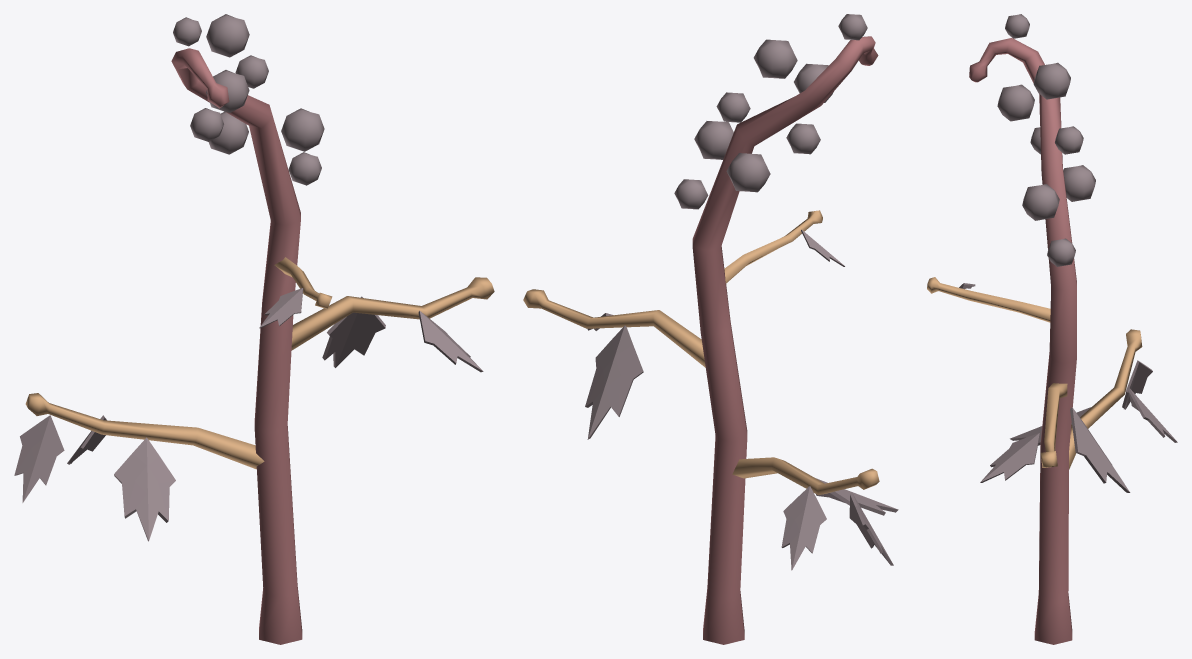
File: asteroidPlant_stage4.fbx
The picture shows the model from 3 angles, left to right: view 1: azimuth 30°, elevation 25°; view 2: azimuth 150°, elevation 25°; view 3: azimuth 270°, elevation 25°; orthographic projection. The views are drawn at different scales.
Visible parts, largest first — view 1: asteroidPlant_stem_rotten, asteroidPlant_branch2_rotten, asteroidPlant_branch1_rotten, asteroidPlant_leaf02_rotten, asteroidPlant_leaf04_rotten, asteroidPlant_leaf06_rotten, asteroidPlant_fruit3_rotten, asteroidPlant_fruit10_rotten, asteroidPlant_leaf05_rotten, asteroidPlant_fruit6_rotten, asteroidPlant_fruit4_rotten, asteroidPlant_leaf01_rotten (+4 smaller); view 2: asteroidPlant_stem_rotten, asteroidPlant_leaf06_rotten, asteroidPlant_branch1_rotten, asteroidPlant_branch2_rotten, asteroidPlant_leaf03_rotten, asteroidPlant_fruit3_rotten, asteroidPlant_fruit6_rotten, asteroidPlant_branch3_rotten, asteroidPlant_fruit10_rotten, asteroidPlant_fruit5_rotten, asteroidPlant_leaf04_rotten, asteroidPlant_fruit9_rotten (+4 smaller); view 3: asteroidPlant_stem_rotten, asteroidPlant_branch2_rotten, asteroidPlant_branch3_rotten, asteroidPlant_leaf06_rotten, asteroidPlant_leaf05_rotten, asteroidPlant_branch1_rotten, asteroidPlant_fruit3_rotten, asteroidPlant_fruit10_rotten, asteroidPlant_fruit4_rotten, asteroidPlant_fruit6_rotten, asteroidPlant_fruit11_rotten, asteroidPlant_fruit9_rotten (+3 smaller).
Boxes of the visible parts, x1,y1,x2,y2 form: asteroidPlant_stem_rotten: [171, 48, 302, 644]; asteroidPlant_branch2_rotten: [25, 393, 264, 469]; asteroidPlant_branch1_rotten: [291, 277, 494, 350]; asteroidPlant_leaf02_rotten: [114, 437, 175, 541]; asteroidPlant_leaf04_rotten: [14, 415, 64, 502]; asteroidPlant_leaf06_rotten: [322, 296, 385, 367]; asteroidPlant_fruit3_rotten: [206, 14, 249, 57]; asteroidPlant_fruit10_rotten: [281, 108, 324, 151]; asteroidPlant_leaf05_rotten: [418, 310, 483, 372]; asteroidPlant_fruit6_rotten: [208, 111, 248, 154]; asteroidPlant_fruit4_rotten: [206, 70, 249, 113]; asteroidPlant_leaf01_rotten: [259, 288, 303, 328]; asteroidPlant_stem_rotten: [692, 36, 878, 644]; asteroidPlant_leaf06_rotten: [585, 325, 643, 439]; asteroidPlant_branch1_rotten: [523, 289, 705, 367]; asteroidPlant_branch2_rotten: [732, 457, 879, 495]; asteroidPlant_leaf03_rotten: [781, 486, 826, 570]; asteroidPlant_fruit3_rotten: [753, 39, 797, 78]; asteroidPlant_fruit6_rotten: [726, 153, 770, 192]; asteroidPlant_branch3_rotten: [724, 210, 822, 283]; asteroidPlant_fruit10_rotten: [694, 121, 733, 159]; asteroidPlant_fruit5_rotten: [786, 123, 820, 154]; asteroidPlant_leaf04_rotten: [849, 492, 893, 565]; asteroidPlant_fruit9_rotten: [716, 92, 750, 122]; asteroidPlant_stem_rotten: [969, 38, 1076, 644]; asteroidPlant_branch2_rotten: [1069, 329, 1142, 469]; asteroidPlant_branch3_rotten: [927, 277, 1050, 322]; asteroidPlant_leaf06_rotten: [1070, 407, 1130, 492]; asteroidPlant_leaf05_rotten: [980, 433, 1040, 482]; asteroidPlant_branch1_rotten: [1040, 383, 1067, 467]; asteroidPlant_fruit3_rotten: [1033, 62, 1070, 99]; asteroidPlant_fruit10_rotten: [1022, 184, 1059, 220]; asteroidPlant_fruit4_rotten: [997, 84, 1034, 121]; asteroidPlant_fruit6_rotten: [1063, 165, 1095, 201]; asteroidPlant_fruit11_rotten: [1047, 238, 1075, 266]; asteroidPlant_fruit9_rotten: [1055, 126, 1083, 154].
Bounding box in the file's own units: 6.82 × 10.06 × 3.99.
